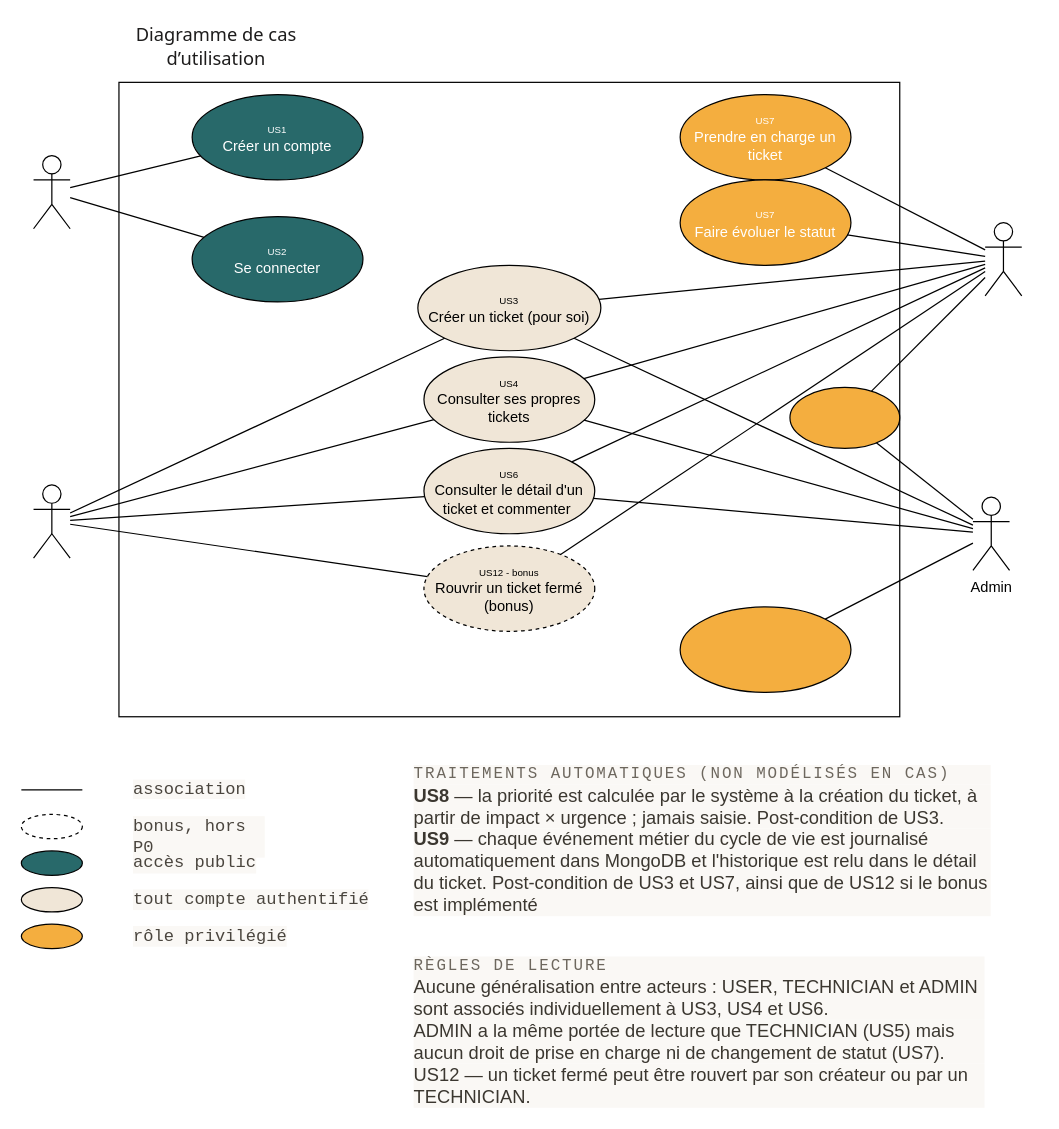
Image size: 1059x1129. Some labels were removed from this diagram. Each missing label, with the box of its shape:
Technicien: (984, 221, 1022, 296)
US10 - bonus Gérer les utilisateurs (bonus): (679, 606, 851, 692)
US5 Consulter tous les tickets: (789, 386, 900, 448)
User: (32, 484, 70, 558)
Visitor: (32, 154, 70, 229)
